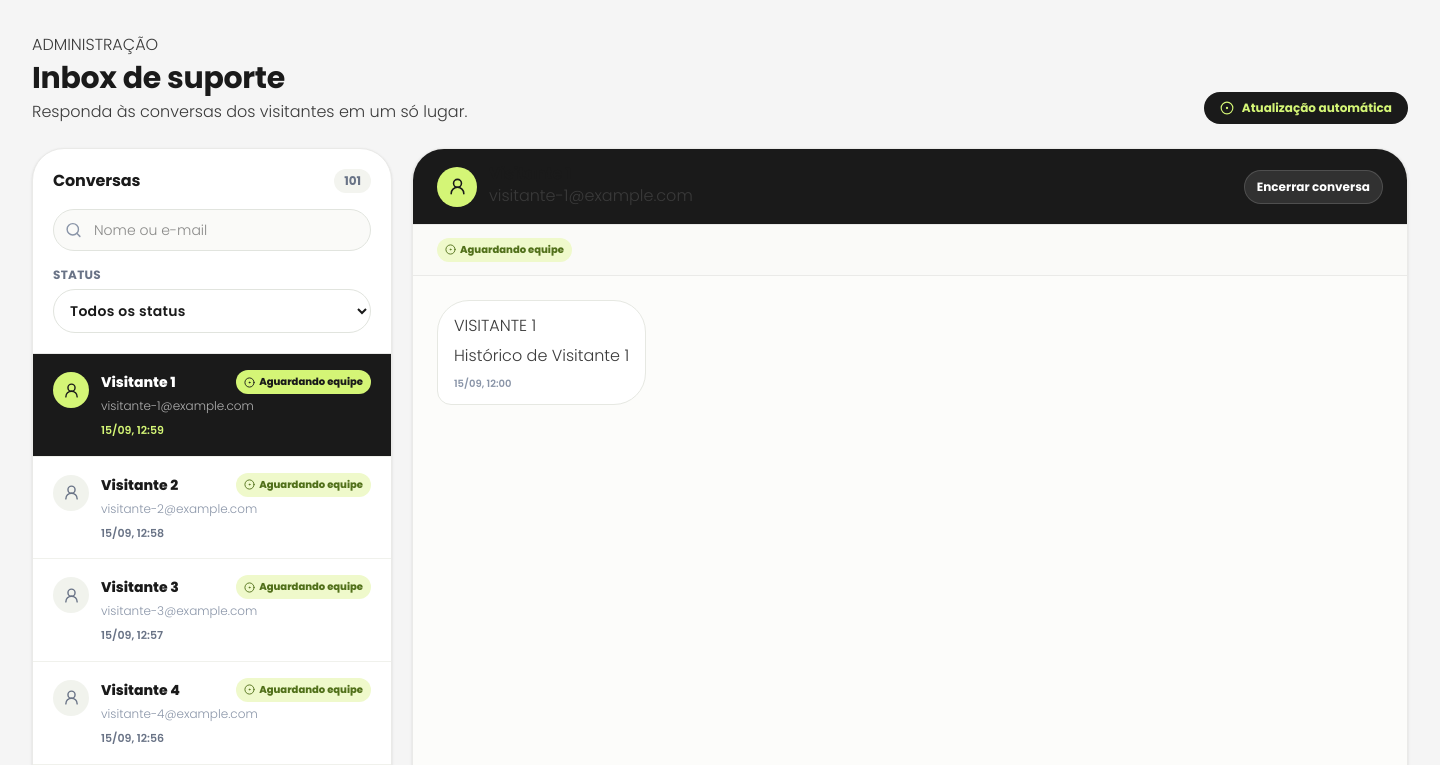
Test: AdminSupportInbox › loads every API page so older conversations remain searchable and openable
Type "antigo" into the field named "Buscar conversas" at (212, 230), box left=53, top=209, right=371, bottom=251
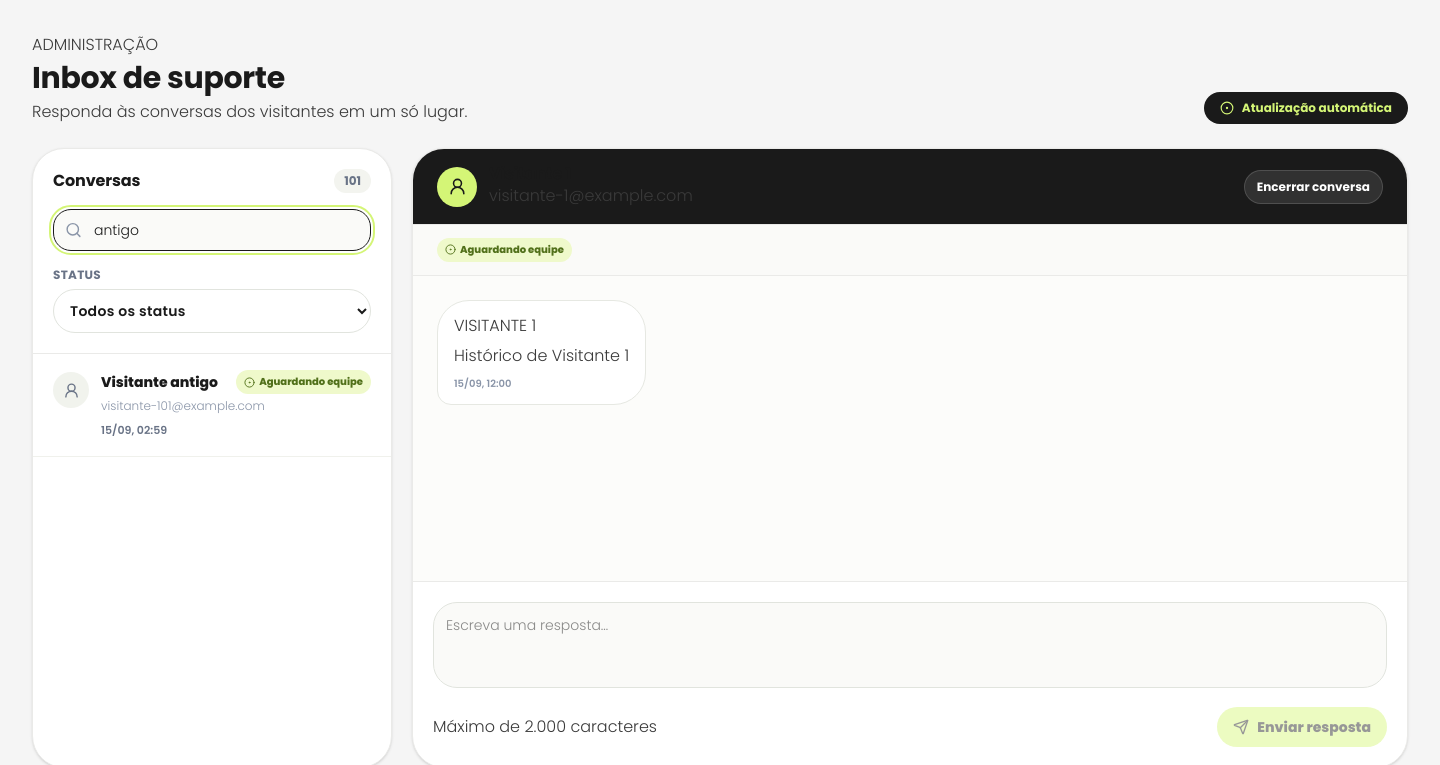
Click the button with aria-label "Abrir conversa de Visitante antigo" at (212, 406), box left=33, top=354, right=391, bottom=457
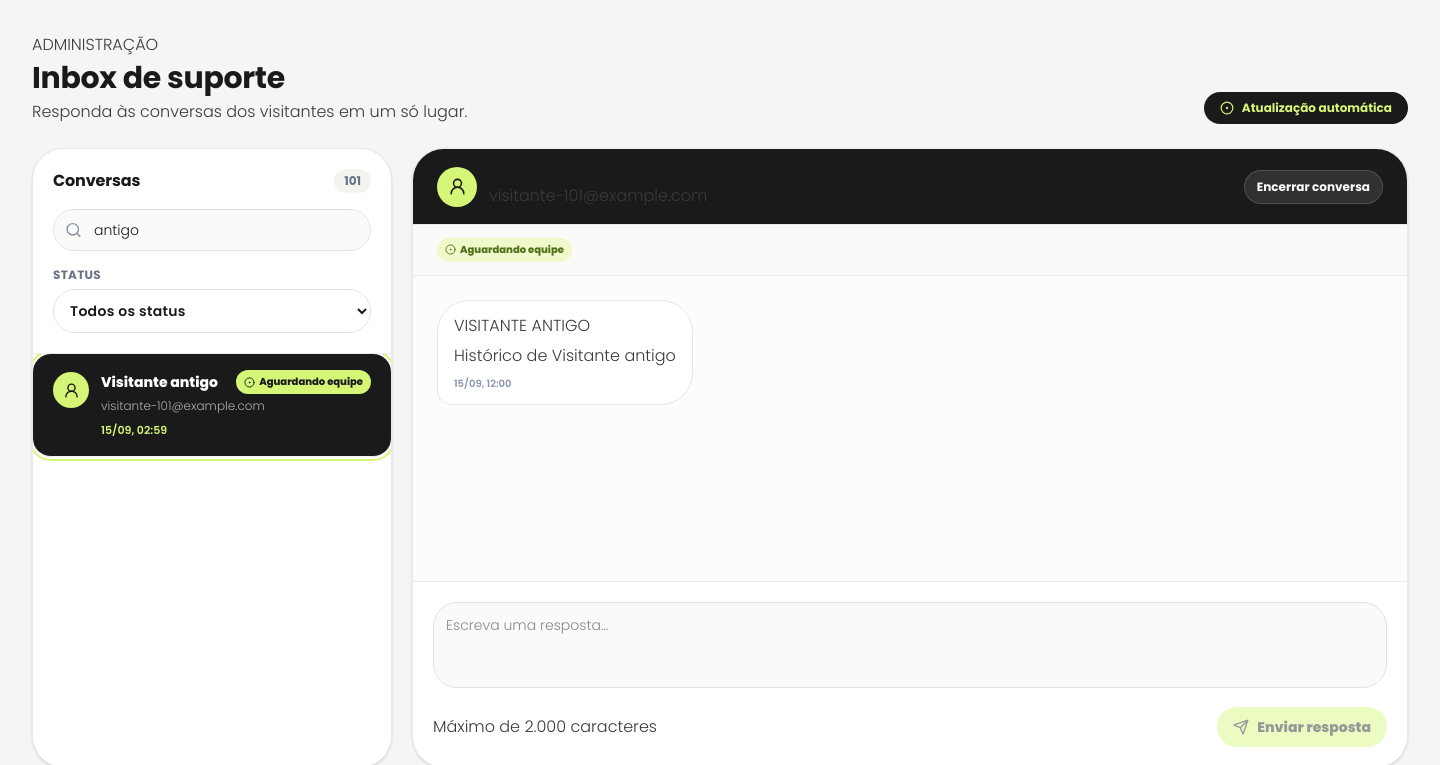
Result: the text "Histórico de Visitante antigo" is shown at left=454, top=343, right=676, bottom=368
